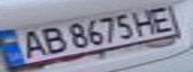5: (112, 9, 139, 39)
6: (84, 16, 106, 46)
7: (96, 12, 121, 43)
8: (63, 19, 87, 48)
A: (12, 26, 51, 59)
B: (33, 24, 69, 55)
E: (145, 1, 184, 34)
H: (130, 3, 163, 37)
